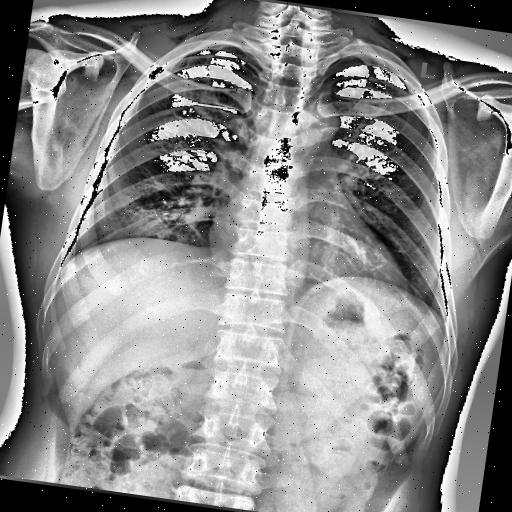3- Cardiomegaly: (202, 208, 418, 298), (202, 210, 418, 296), (202, 216, 414, 294)
